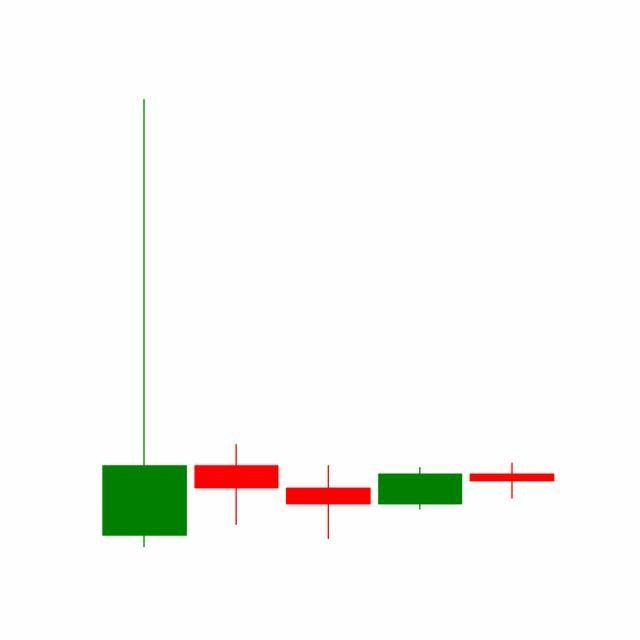Hanging Man: (466, 463, 559, 500)
